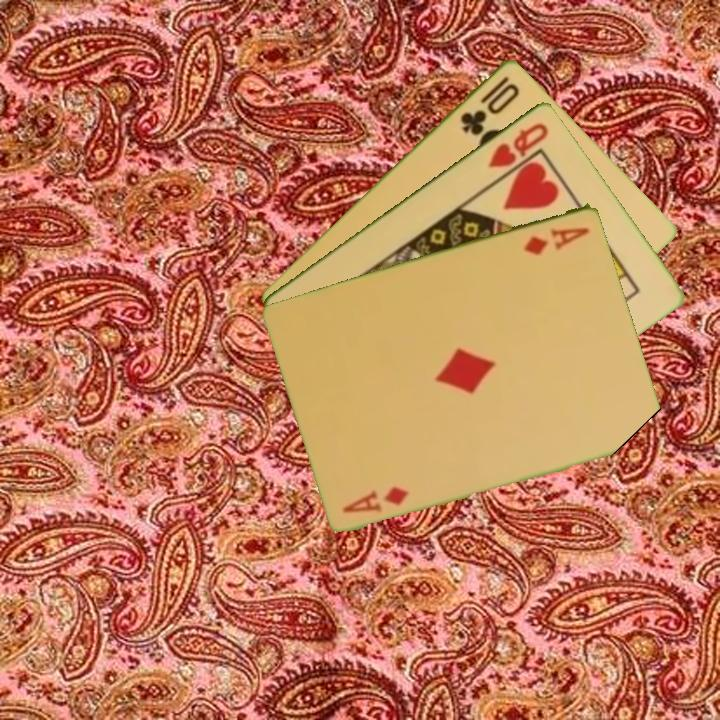10c: (456, 72, 523, 138)
Ad: (521, 223, 593, 258), (339, 482, 412, 516)
Qh: (484, 118, 552, 171)
